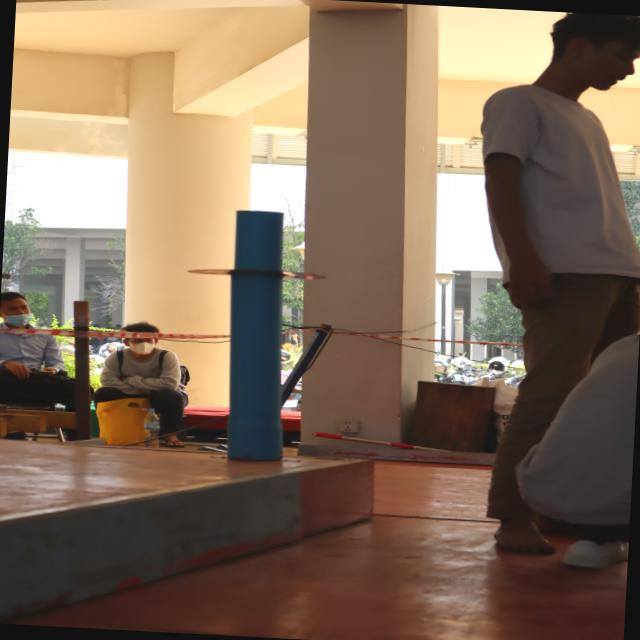pole: (186, 208, 322, 321)
